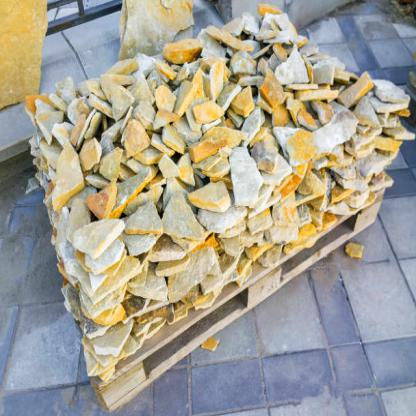Sedimentary_Limestone: (227, 142, 268, 230), (116, 190, 173, 244), (64, 217, 124, 264), (331, 64, 381, 118), (52, 140, 86, 207), (182, 180, 236, 220), (108, 76, 134, 134)
